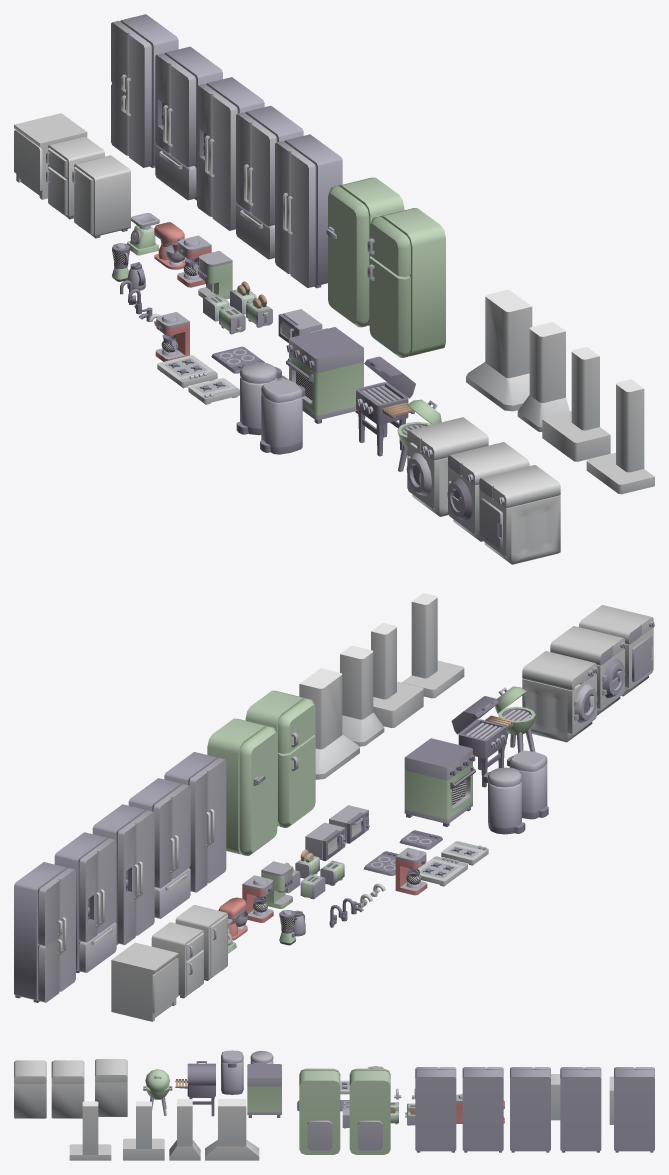
File: kitchen-appliances.glb
3 views of the same model, one above another, from view 1: azimuth 30°, elevation 25°; view 2: azimuth 150°, elevation 25°; view 3: azimuth 270°, elevation 25° (orthographic). The views are drawn at different scales.
Visible parts, largest first — view 1: fridge-retro-freezer, fridge-double, washer-dryer-square, fridge-double-doors, fridge-retro, fridge-double-ice-cubes-drawer, fridge-double-ice-cubes, fridge-double-drawer, oven, kitchen-hood-wide (%wall) (%thumbnail), kitchen-hood-modern (%wall), fridge-basic-small (+21 smaller); view 2: fridge-double-doors, fridge-retro, fridge-double-ice-cubes-drawer, fridge-retro-freezer, fridge-double-ice-cubes, fridge-double, fridge-double-drawer, oven, washer, kitchen-hood-wide (%wall) (%thumbnail), dishwasher, kitchen-hood-modern-flat (%wall) (+21 smaller); view 3: fridge-retro, fridge-retro-freezer, fridge-double, fridge-double-ice-cubes-drawer, fridge-double-drawer, fridge-double-doors, fridge-double-ice-cubes, kitchen-hood-wide (%wall) (%thumbnail), washer-dryer, washer-dryer-square, washer, oven (+11 smaller).
Boxes of the visible parts, box(x1,y1,x2,y2) form: fridge-retro-freezer: box(367, 208, 445, 357); fridge-double: box(275, 134, 342, 288); washer-dryer-square: box(479, 465, 560, 564); fridge-double-doors: box(111, 14, 178, 167); fridge-retro: box(326, 177, 404, 327); fridge-double-ice-cubes-drawer: box(155, 46, 222, 200); fridge-double-ice-cubes: box(197, 77, 264, 230); fridge-double-drawer: box(236, 105, 303, 259); oven: box(286, 327, 363, 423); kitchen-hood-wide (%wall) (%thumbnail): box(466, 289, 532, 411); kitchen-hood-modern (%wall): box(542, 346, 610, 461); fridge-basic-small: box(72, 155, 130, 238); fridge-double-doors: box(14, 862, 75, 1002); fridge-retro: box(207, 718, 277, 855); fridge-double-ice-cubes-drawer: box(54, 832, 116, 973); fridge-retro-freezer: box(245, 690, 315, 827); fridge-double-ice-cubes: box(92, 804, 154, 944); fridge-double: box(164, 752, 226, 892); fridge-double-drawer: box(128, 778, 190, 918); oven: box(404, 738, 475, 826); washer: box(522, 651, 598, 742); kitchen-hood-wide (%wall) (%thumbnail): box(299, 668, 359, 779); dishwasher: box(111, 942, 178, 1021); kitchen-hood-modern-flat (%wall): box(402, 593, 464, 698); fridge-retro: box(349, 1068, 390, 1154); fridge-retro-freezer: box(299, 1068, 340, 1154); fridge-double: box(415, 1067, 456, 1152); fridge-double-ice-cubes-drawer: box(560, 1067, 601, 1152); fridge-double-drawer: box(462, 1067, 503, 1152); fridge-double-doors: box(614, 1067, 654, 1152); fridge-double-ice-cubes: box(510, 1067, 550, 1152); kitchen-hood-wide (%wall) (%thumbnail): box(205, 1099, 259, 1160); washer-dryer: box(51, 1060, 84, 1118); washer-dryer-square: box(14, 1060, 46, 1118); washer: box(95, 1059, 127, 1116); oven: box(247, 1064, 281, 1117).
Bounding box in the file's own units: 2.86 × 1.34 × 10.17.
5 materials, 2 textured.
